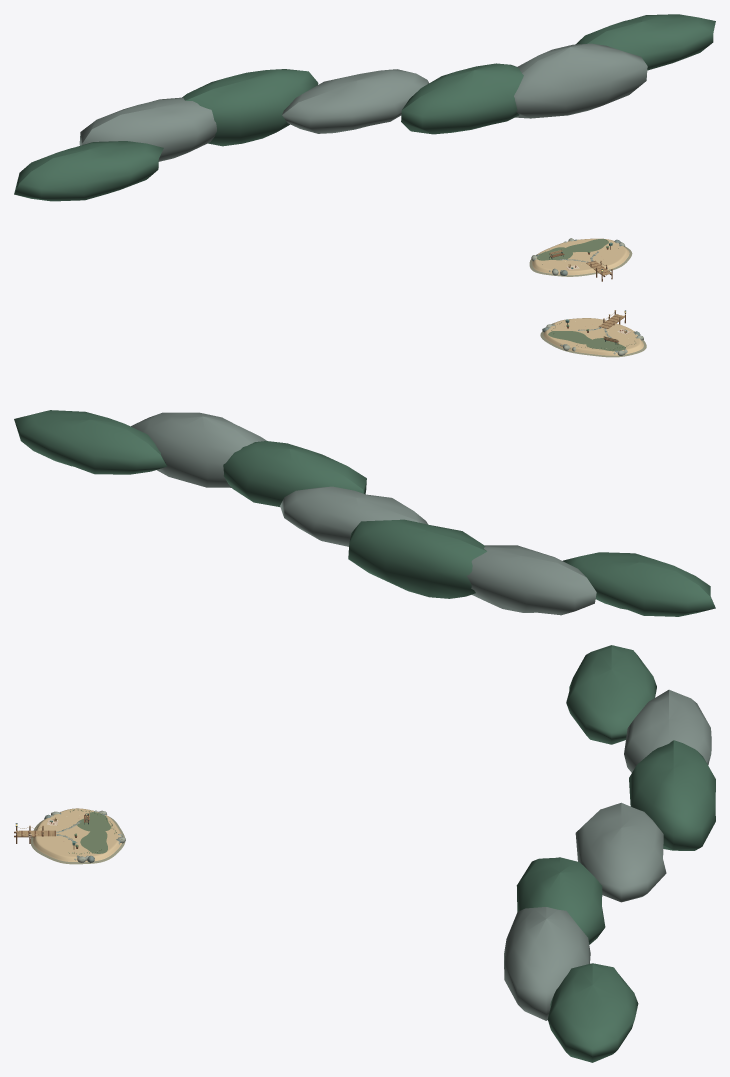
Rendered from harbor-base.glb.
3 views of the same model, one above another, from view 1: azimuth 30°, elevation 25°; view 2: azimuth 150°, elevation 25°; view 3: azimuth 270°, elevation 25° (orthographic). The views are drawn at different scales.
Parts seen in each view (by area): view 1: assembled-coastal-pine, assembled-slate-stone, assembled-warm-shell-sand, assembled-meadow-sage; view 2: assembled-coastal-pine, assembled-slate-stone, assembled-warm-shell-sand, assembled-meadow-sage; view 3: assembled-coastal-pine, assembled-slate-stone, assembled-warm-shell-sand, assembled-meadow-sage.
Part boxes in pixels (x1=…): assembled-coastal-pine: x1=14, y1=14, x2=715, y2=264; assembled-slate-stone: x1=79, y1=43, x2=647, y2=275; assembled-warm-shell-sand: x1=532, y1=238, x2=629, y2=275; assembled-meadow-sage: x1=537, y1=239, x2=608, y2=260; assembled-coastal-pine: x1=14, y1=347, x2=715, y2=616; assembled-slate-stone: x1=131, y1=324, x2=640, y2=615; assembled-warm-shell-sand: x1=543, y1=318, x2=643, y2=355; assembled-meadow-sage: x1=548, y1=331, x2=625, y2=351; assembled-coastal-pine: x1=97, y1=645, x2=715, y2=1062; assembled-slate-stone: x1=44, y1=689, x2=711, y2=1020; assembled-warm-shell-sand: x1=33, y1=808, x2=121, y2=861; assembled-meadow-sage: x1=77, y1=812, x2=110, y2=853.
Size of the model in its own units: 168 by 15.43 by 124.
